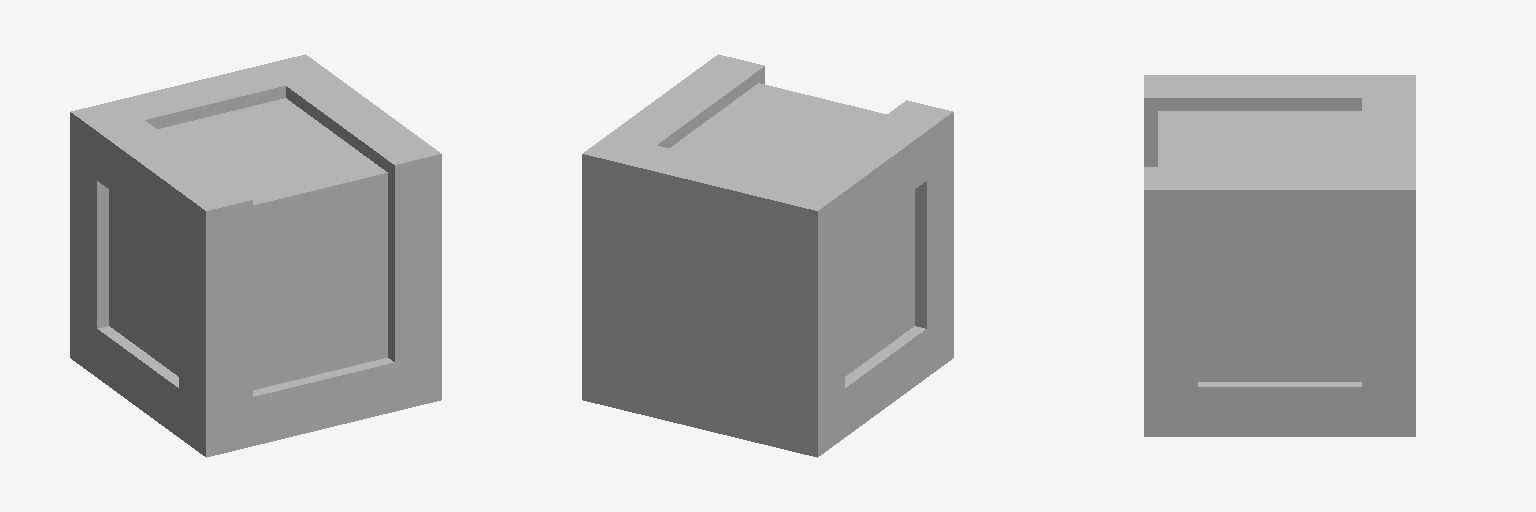
The model's file is head_basic.obj.
3 renders of one model, left to right at view 1: azimuth 30°, elevation 25°; view 2: azimuth 150°, elevation 25°; view 3: azimuth 270°, elevation 25°, orthographic.
Parts seen in each view (by area): view 1: HEAD_BASIC_Cube.002; view 2: HEAD_BASIC_Cube.002; view 3: HEAD_BASIC_Cube.002.
Boxes of the visible parts, x1=… form: HEAD_BASIC_Cube.002: x1=70, y1=54, x2=441, y2=457; HEAD_BASIC_Cube.002: x1=582, y1=54, x2=953, y2=457; HEAD_BASIC_Cube.002: x1=1144, y1=75, x2=1415, y2=436.
Bounding box in the file's own units: 0.3125 × 0.3125 × 0.3125.